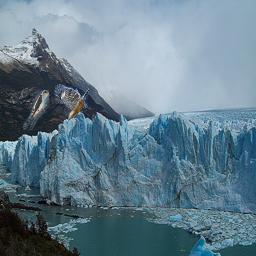Cuckoo: (23, 90, 49, 130)
Woodpecker: (54, 84, 89, 124)
